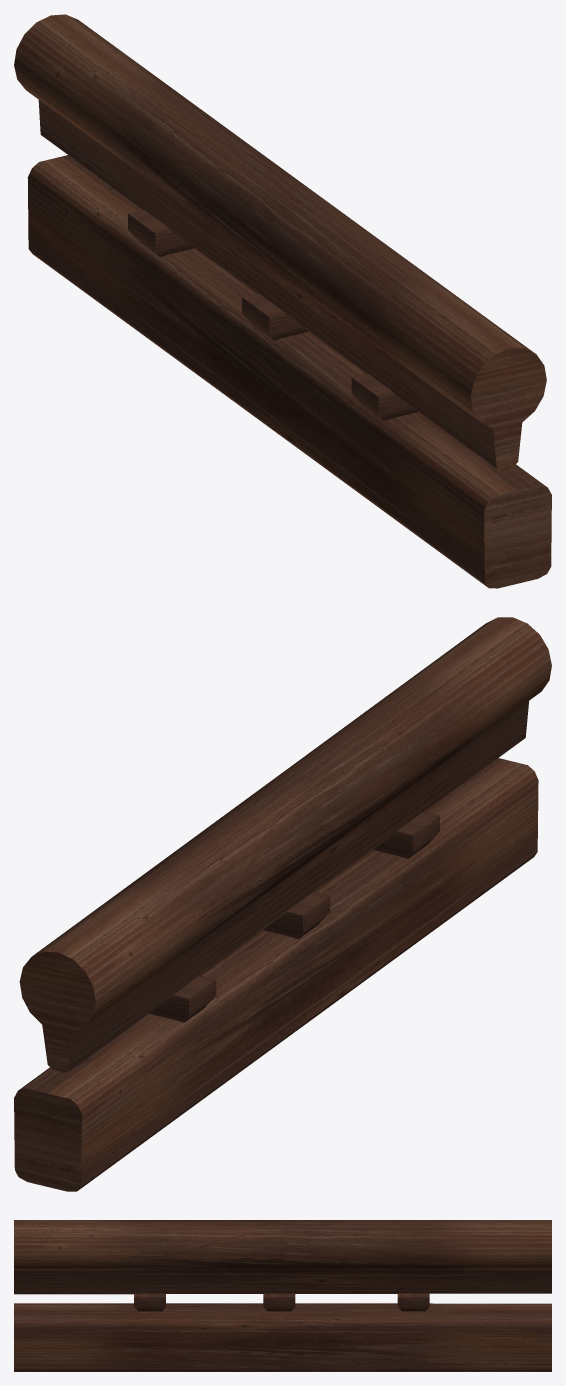
The model's file is SM_R_Dancheong_33.fbx.
3 renders of one model, top to bottom at view 1: azimuth 30°, elevation 25°; view 2: azimuth 150°, elevation 25°; view 3: azimuth 270°, elevation 25°, orthographic. The views are drawn at different scales.
Parts seen in each view (by area): view 1: SM_R_Dancheong_33; view 2: SM_R_Dancheong_33; view 3: SM_R_Dancheong_33.
Part boxes in pixels (box(x1,y1,x2,y2)): SM_R_Dancheong_33: box(14, 14, 551, 588); SM_R_Dancheong_33: box(14, 617, 551, 1191); SM_R_Dancheong_33: box(14, 1220, 551, 1371).
Size of the model in its own units: 32.38 by 313 by 89.85.
1 material, 1 textured.
